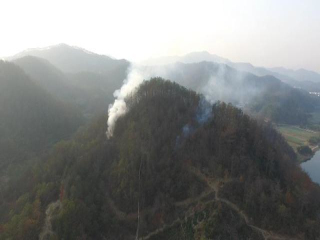smoke: (191, 67, 252, 140), (106, 60, 148, 142)
